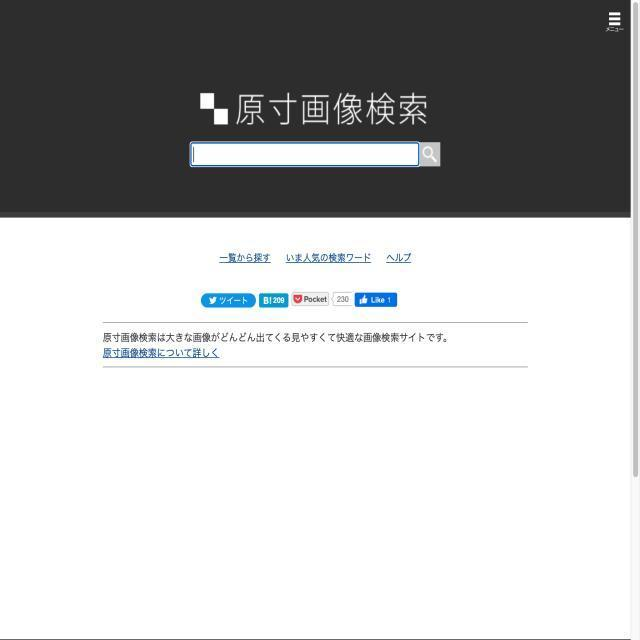Navigation dots: (597, 14, 623, 34)
buttons: (191, 271, 253, 315), (252, 278, 292, 324), (354, 286, 402, 316), (297, 284, 333, 314), (336, 289, 354, 317)
input fields: (169, 132, 476, 176)
text: (78, 326, 490, 368), (173, 76, 447, 126), (282, 242, 386, 280), (386, 246, 432, 278), (226, 244, 274, 272)
